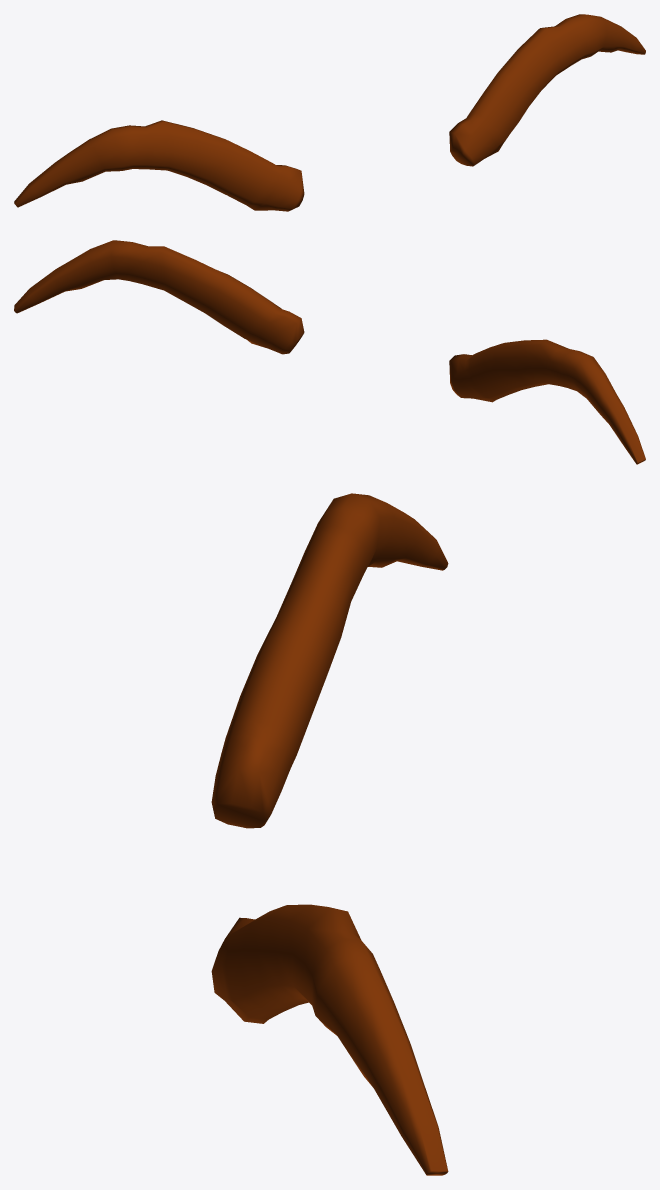
File: Eyebrows_18_02.fbx
3 views of the same model, one above another, from view 1: azimuth 30°, elevation 25°; view 2: azimuth 150°, elevation 25°; view 3: azimuth 270°, elevation 25° (orthographic). The views are drawn at different scales.
Visible parts, largest first — view 1: Eyebrows_18_02; view 2: Eyebrows_18_02; view 3: Eyebrows_18_02.
Boxes of the visible parts, box(x1,y1,x2,y2) form: Eyebrows_18_02: box(14, 14, 645, 211); Eyebrows_18_02: box(14, 240, 645, 464); Eyebrows_18_02: box(211, 493, 448, 1175).
Size of the model in its own units: 18.22 by 2.68 by 2.96.
